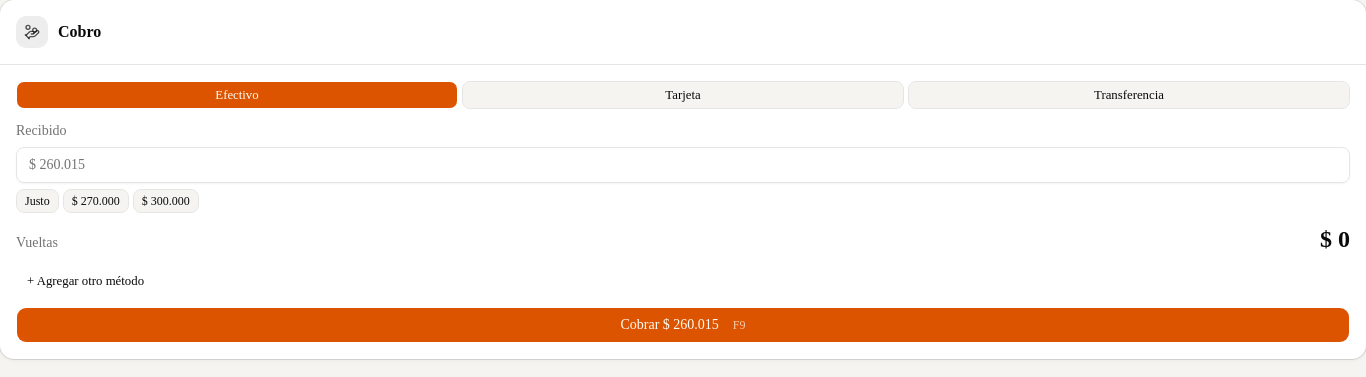
TarjetaCobro › atajos de billetes: Justo y los siguientes billetes redondos
Click the button "$ 300.000" at (166,201), box 133,189 -> 199,213
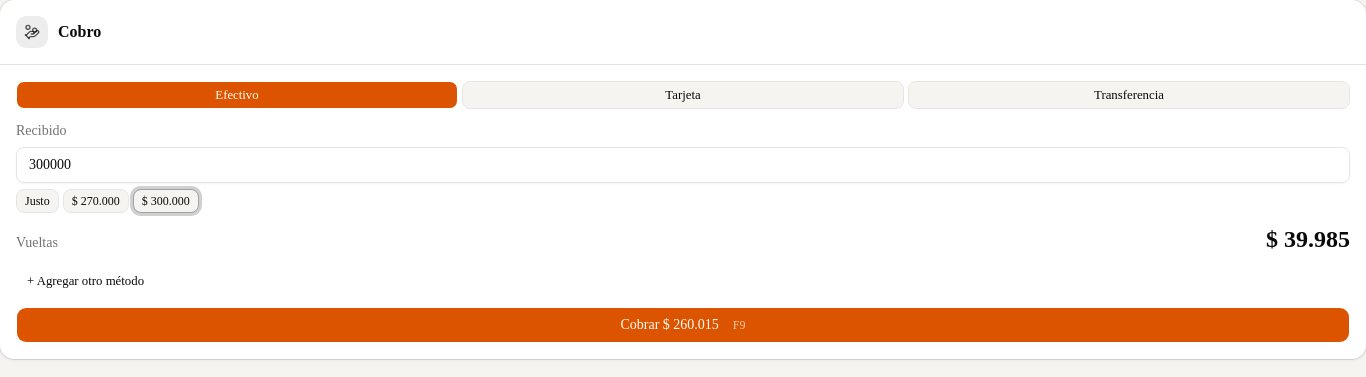
Result: the number field labelled "Recibido" holds "300000" at 16,147 -> 1350,183
Click the button "Justo" at (37,201), box 16,189 -> 59,213
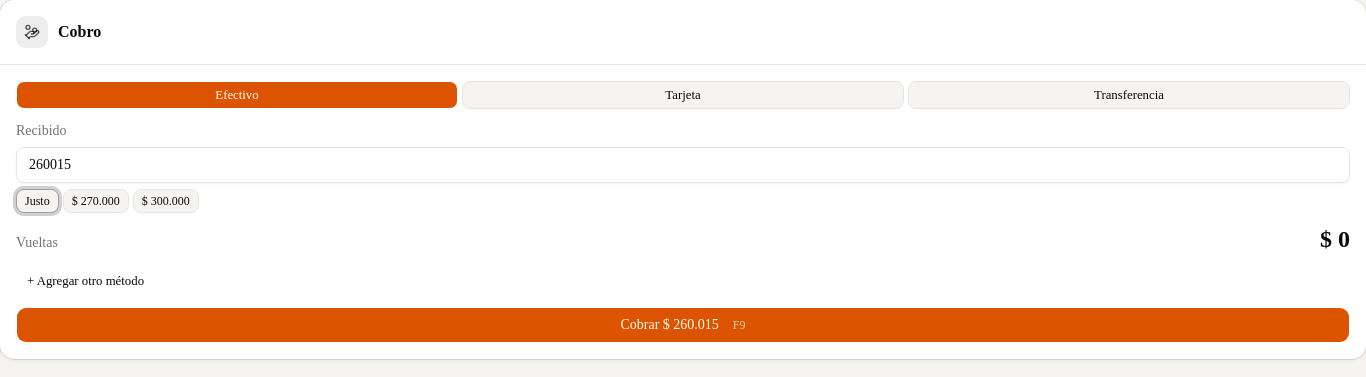
Result: the number field labelled "Recibido" holds "260015" at 16,147 -> 1350,183
